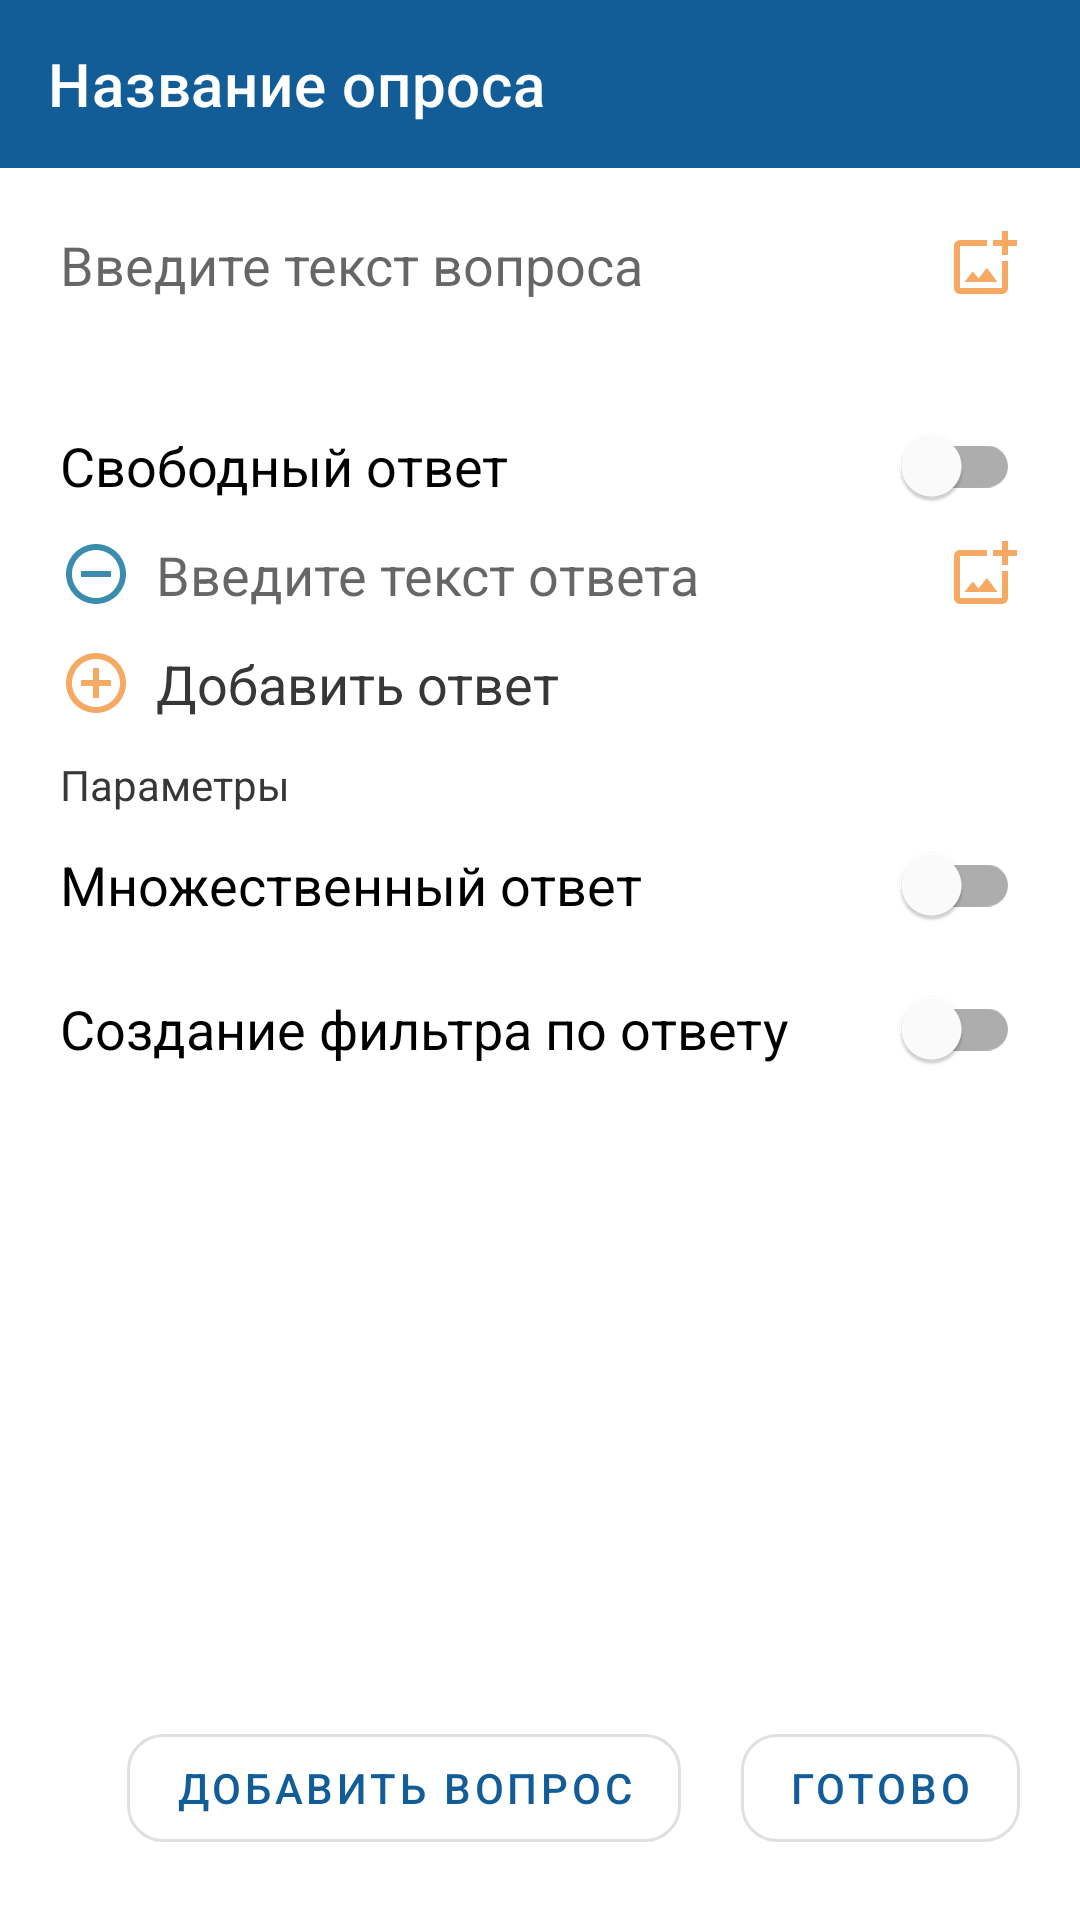

Screen size 1080 x 1920. Icon name, then its center in pixels as [x,y]:
add circle: [96,683]
add photo alternate: [985,262], [985,572]
remove circle: [96,574]
